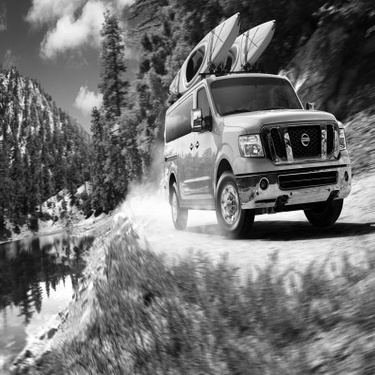car: (146, 62, 355, 238)
